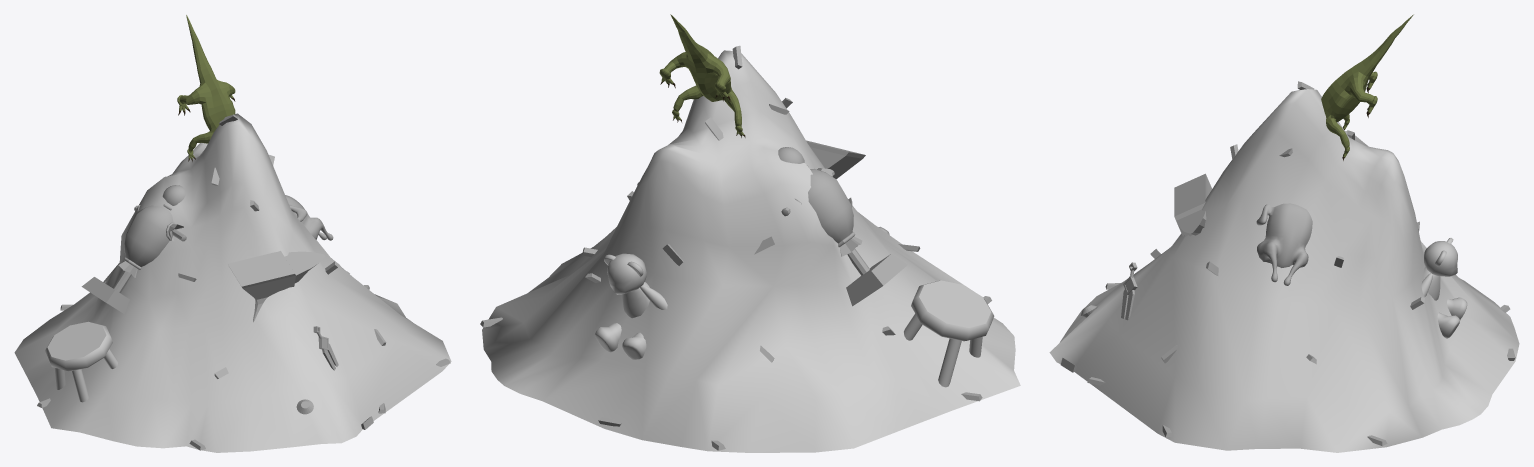
File: Gold_pile_Variation7.fbx
3 renders of one model, left to right at view 1: azimuth 30°, elevation 25°; view 2: azimuth 150°, elevation 25°; view 3: azimuth 270°, elevation 25°, orthographic. The views are drawn at different scales.
Visible parts, largest first — view 1: pile7, Targetdummy2, Chair5, Anvil4, Komodo1, gold7, Rotisserie_Chicken2; view 2: pile7, Chair5, Targetdummy2, Teddy5, Komodo1, gold7, Anvil4; view 3: pile7, Rotisserie_Chicken2, Komodo1, Teddy5, Anvil4, gold7, Sword_7.
Boxes of the visible parts, left/top/right/bottom form: pile7: left=14, top=113, right=451, bottom=452; Targetdummy2: left=81, top=185, right=186, bottom=314; Chair5: left=45, top=321, right=117, bottom=402; Anvil4: left=228, top=251, right=324, bottom=322; Komodo1: left=177, top=15, right=235, bottom=161; gold7: left=37, top=114, right=450, bottom=450; Rotisserie_Chicken2: left=285, top=195, right=333, bottom=240; pile7: left=482, top=50, right=1020, bottom=452; Chair5: left=904, top=280, right=994, bottom=387; Targetdummy2: left=778, top=147, right=907, bottom=306; Teddy5: left=594, top=253, right=667, bottom=359; Komodo1: left=659, top=14, right=745, bottom=137; gold7: left=480, top=45, right=991, bottom=450; Anvil4: left=806, top=140, right=865, bottom=179; pile7: left=1049, top=89, right=1519, bottom=452; Rotisserie_Chicken2: left=1256, top=203, right=1312, bottom=285; Komodo1: left=1321, top=14, right=1413, bottom=160; Teddy5: left=1421, top=238, right=1467, bottom=338; Anvil4: left=1174, top=173, right=1211, bottom=236; gold7: left=1060, top=81, right=1515, bottom=446; Sword_7: left=1121, top=262, right=1137, bottom=320.
Size of the model in its own units: 608 by 462 by 574.
